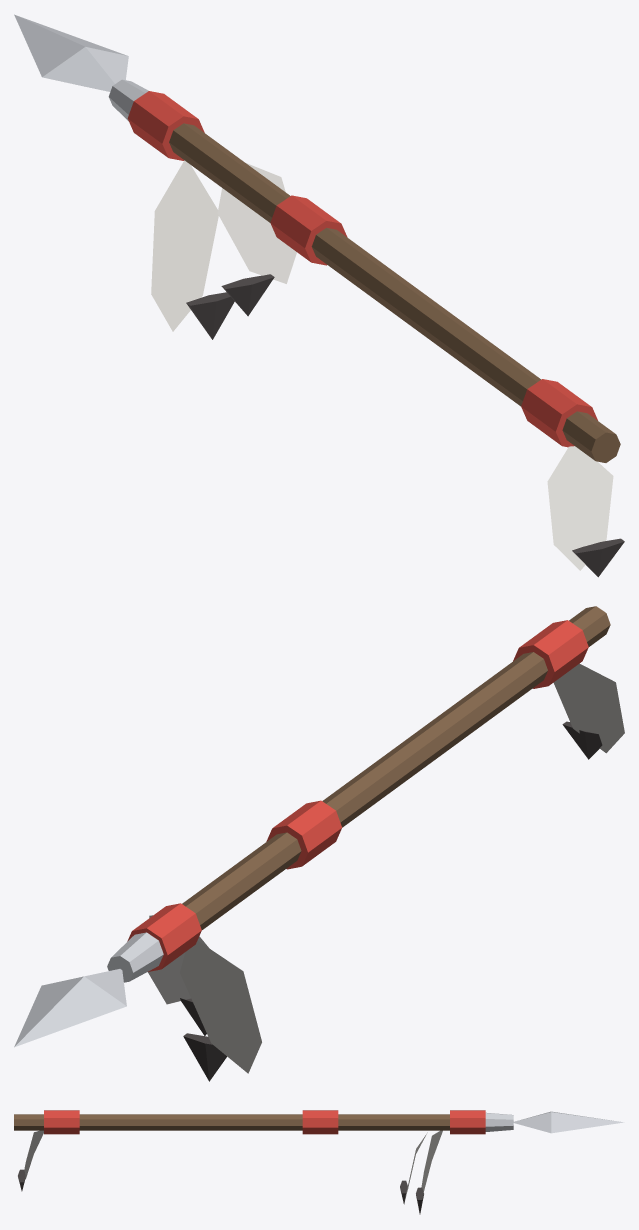
File: spear.glb
The picture shows the model from 3 angles, top to bottom: view 1: azimuth 30°, elevation 25°; view 2: azimuth 150°, elevation 25°; view 3: azimuth 270°, elevation 25°; orthographic projection. The views are drawn at different scales.
Parts seen in each view (by area): view 1: Spear; view 2: Spear; view 3: Spear.
Boxes of the visible parts, bbox=[...] form: Spear: bbox=[14, 14, 624, 577]; Spear: bbox=[14, 606, 624, 1081]; Spear: bbox=[14, 1110, 624, 1214].
Size of the model in its own units: 0.2004 by 0.29 by 1.54.
